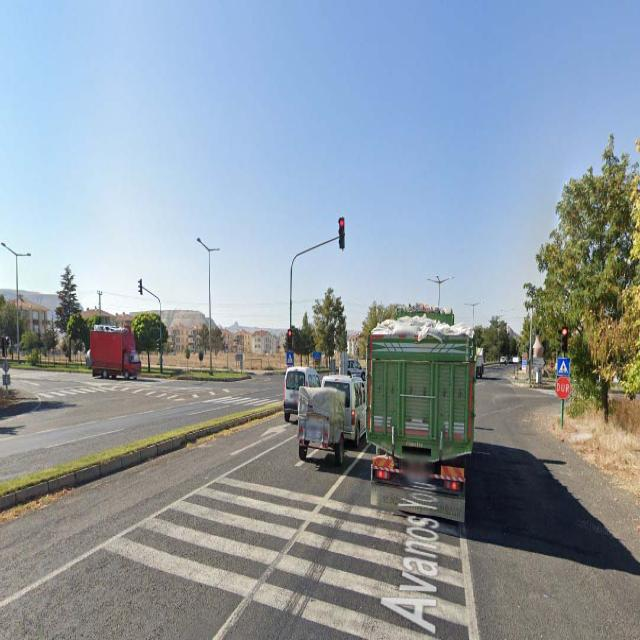dur: (555, 377, 570, 399)
kirmizi: (339, 216, 345, 248), (562, 326, 567, 353), (287, 330, 291, 349)
